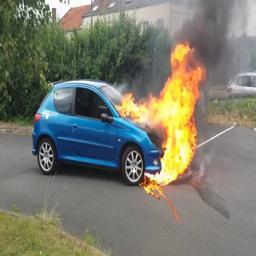fire: (116, 43, 205, 187)
